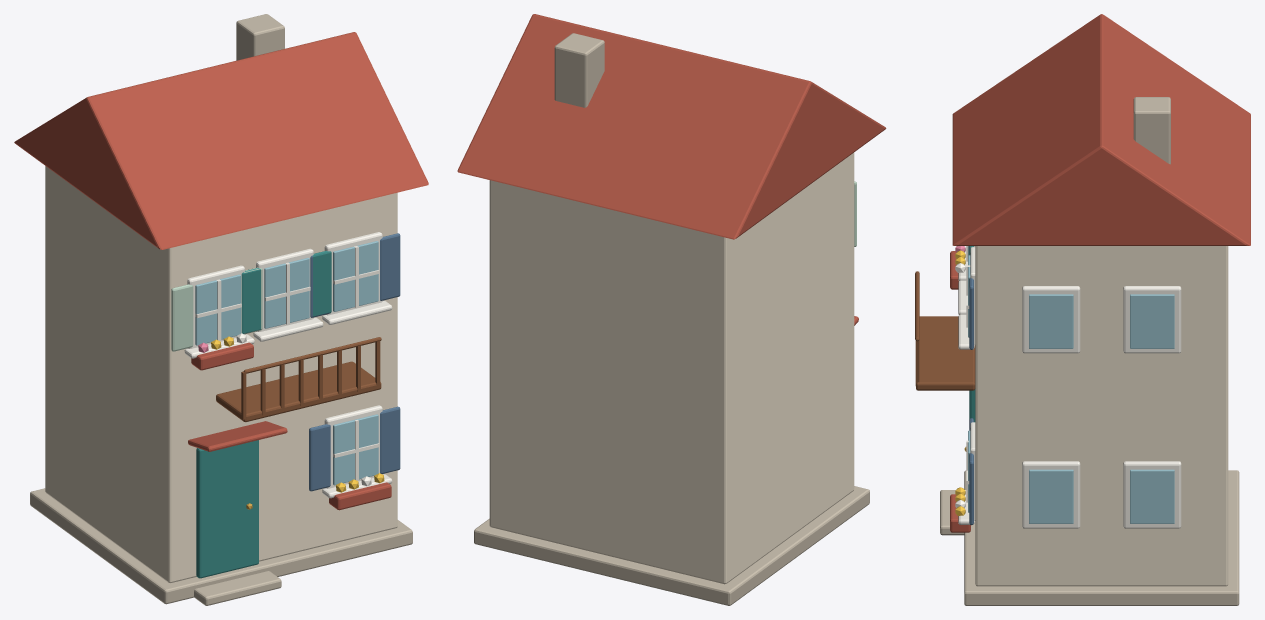
Rendered from house_a.glb.
The picture shows the model from 3 angles, left to right: view 1: azimuth 30°, elevation 25°; view 2: azimuth 150°, elevation 25°; view 3: azimuth 270°, elevation 25°; orthographic projection. The views are drawn at different scales.
Parts seen in each view (by area): view 1: house_a; view 2: house_a; view 3: house_a.
Part boxes in pixels (x1=…): house_a: x1=14, y1=14, x2=428, y2=605; house_a: x1=457, y1=14, x2=886, y2=605; house_a: x1=915, y1=14, x2=1250, y2=605.
Size of the model in its own units: 4.24 by 7.02 by 4.51.
